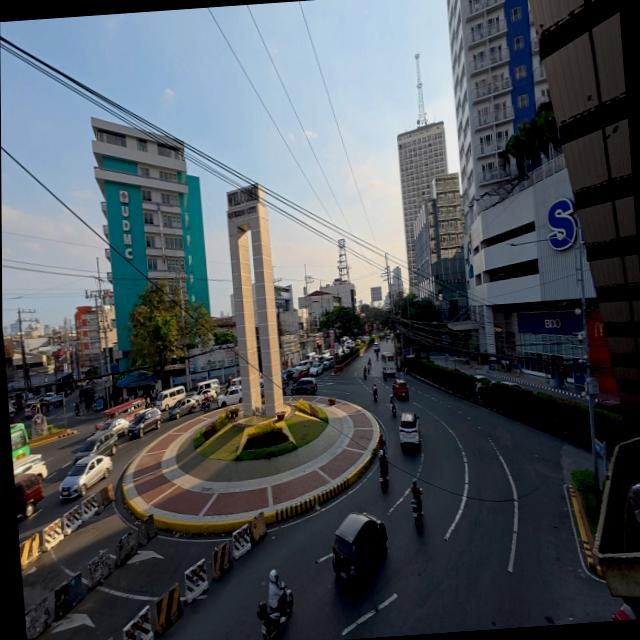bus: (10, 424, 29, 461), (380, 351, 395, 375)
car: (332, 513, 387, 587), (60, 454, 111, 498), (73, 431, 118, 463), (15, 473, 44, 517), (13, 454, 48, 483), (128, 408, 161, 437), (399, 412, 420, 446), (168, 398, 197, 419), (100, 419, 129, 436), (218, 388, 242, 408), (291, 377, 317, 395), (192, 389, 217, 404), (613, 604, 636, 620), (475, 375, 495, 393), (596, 400, 621, 414), (392, 379, 408, 398), (292, 367, 310, 382), (25, 401, 40, 417), (282, 368, 296, 382), (310, 362, 324, 376), (501, 381, 523, 389), (294, 358, 310, 368), (323, 357, 334, 369), (44, 393, 56, 401), (335, 345, 343, 356), (374, 342, 381, 352), (317, 355, 325, 363), (323, 350, 331, 357), (356, 339, 361, 346)
motorcycle: (256, 582, 293, 639), (412, 499, 422, 527), (380, 470, 388, 489), (200, 397, 211, 410), (389, 401, 397, 416), (74, 404, 79, 416), (374, 390, 377, 401), (383, 372, 387, 380), (364, 369, 367, 379), (376, 353, 379, 360)
vans: (156, 387, 185, 411), (194, 379, 220, 395), (309, 352, 317, 359)
